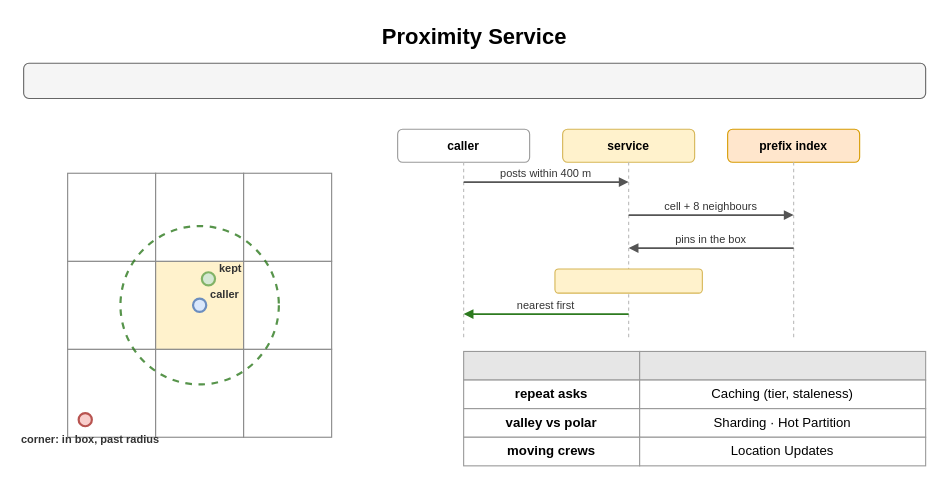
The diagram is 945 pixels wide and 485 high, and some of its shapes have lost their labels. The centre of each missing label's shape, as x and y in pixels:
concern: the point at 551,365
distance ≤ 400 m, sort: the point at 628,280
Read the box (cell + 8 neighbours), then keep pins within the radius: the point at 474,80
topic: the point at 782,365
